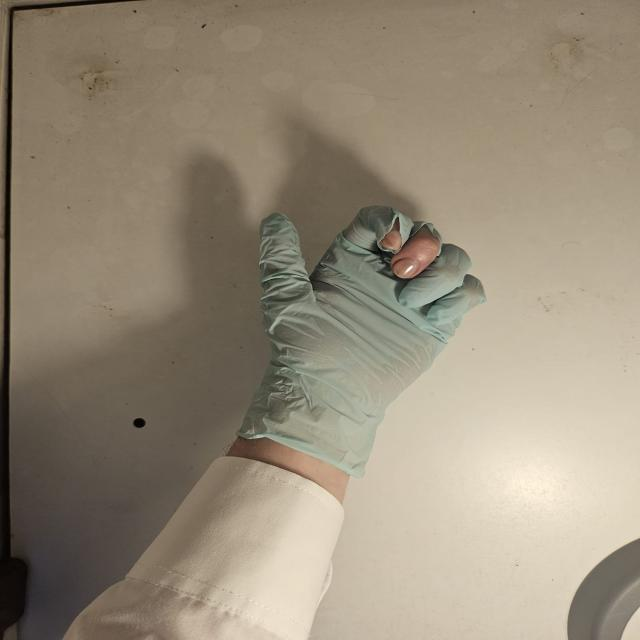gloves_damaged: (230, 199, 492, 478)
